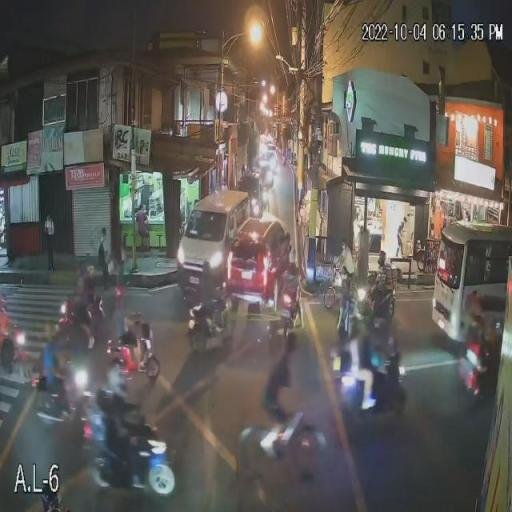helmet: (102, 368, 130, 397), (378, 251, 387, 264)
motorcycle: (85, 412, 177, 498), (329, 359, 405, 425), (28, 375, 90, 440), (104, 326, 162, 383), (184, 300, 234, 358), (56, 304, 106, 358), (458, 332, 492, 400), (358, 280, 400, 326), (272, 282, 305, 338)
rider: (334, 307, 394, 413), (93, 374, 154, 472), (39, 334, 78, 393), (194, 270, 229, 330), (462, 289, 492, 358), (113, 293, 146, 352), (69, 264, 99, 323), (272, 250, 300, 310), (371, 252, 396, 299)
